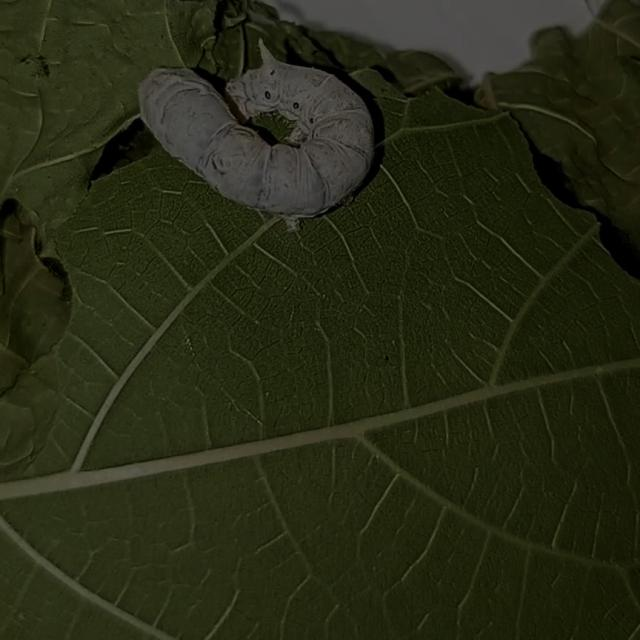Healthy: (116, 32, 411, 228)
